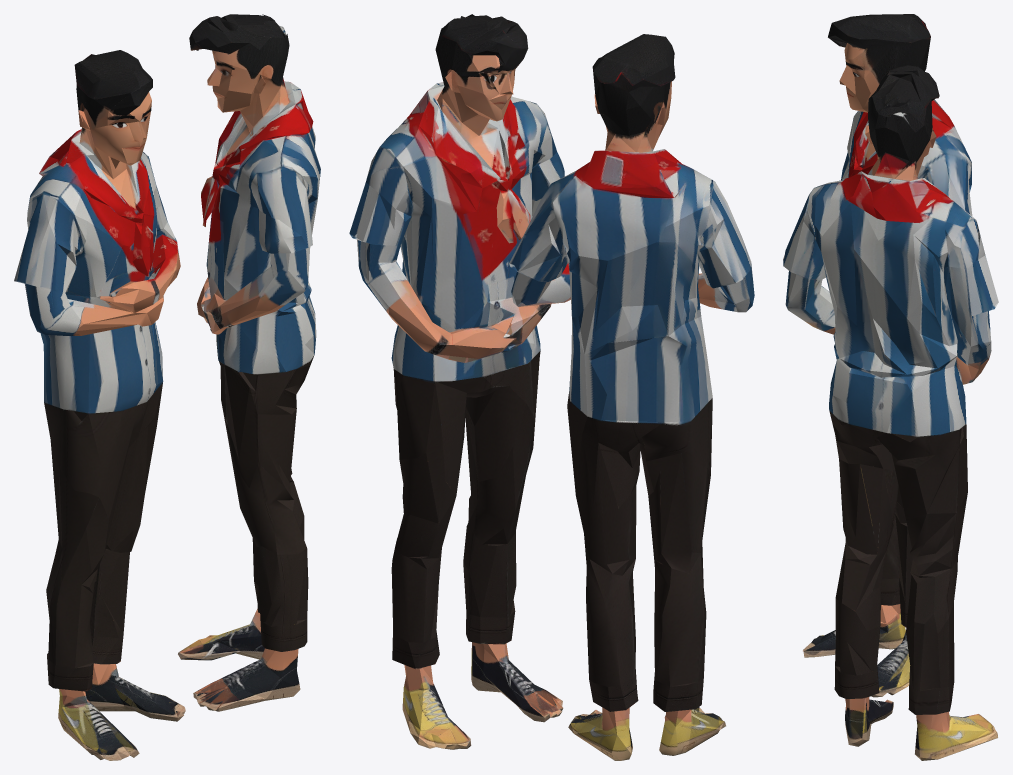
File: sailors.glb
3 views of the same model, side by side, from view 1: azimuth 30°, elevation 25°; view 2: azimuth 150°, elevation 25°; view 3: azimuth 270°, elevation 25° (orthographic). The views are drawn at different scales.
Size of the model in its own units: 0.9718 by 1.9 by 0.5663.
1 material, 1 textured.
